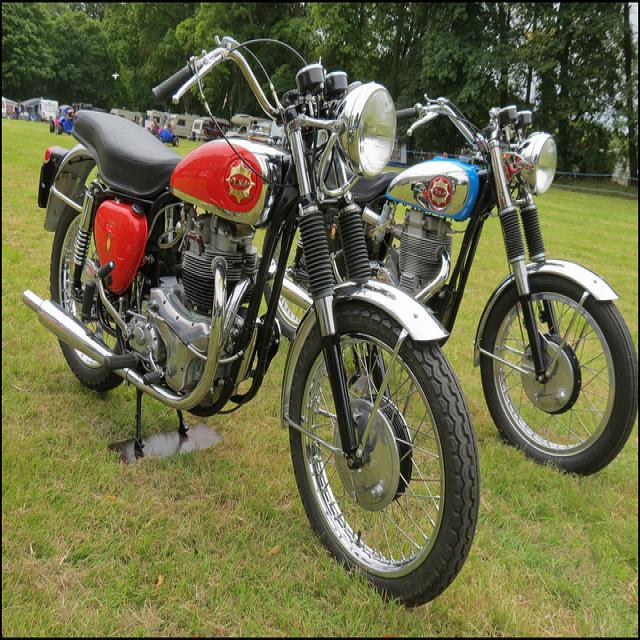motor: (18, 35, 494, 604), (359, 100, 638, 478)
